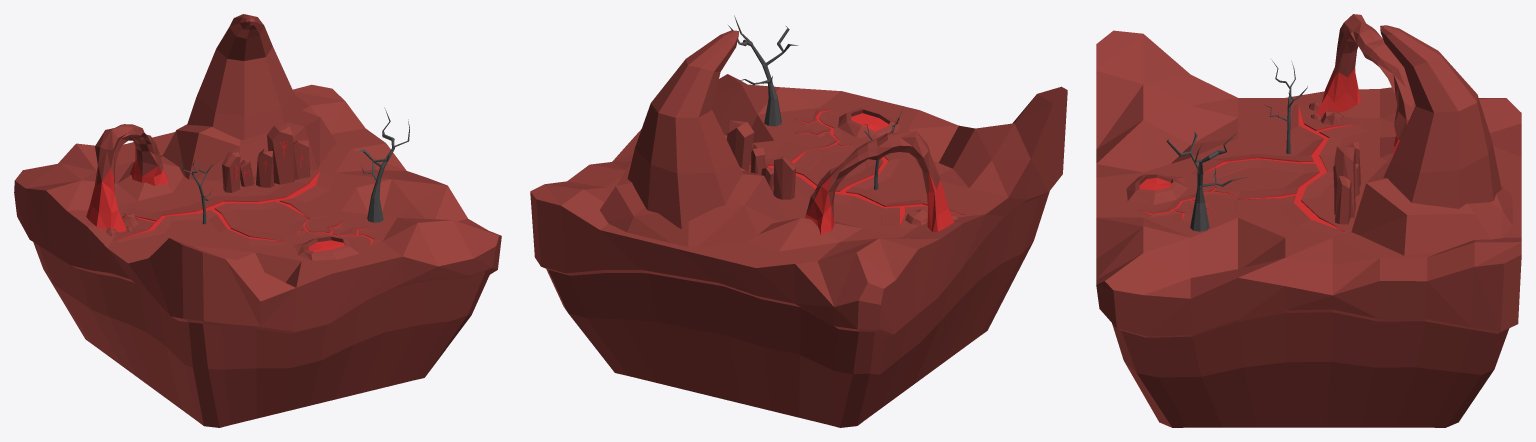
File: Island_6.glb
3 renders of one model, left to right at view 1: azimuth 30°, elevation 25°; view 2: azimuth 150°, elevation 25°; view 3: azimuth 270°, elevation 25°, orthographic. The views are drawn at different scales.
Visible parts, largest first — view 1: Isl6_Base, Isl6_Mountain_1, Isl6_Rock_1, Isl6_Stones_with_runes, Isl6_Puddle, Isl6_Tree_1; view 2: Isl6_Base, Isl6_Mountain_1, Isl6_Rock_1, Isl6_Stones_with_runes, Isl6_Puddle, Isl6_Tree_1; view 3: Isl6_Base, Isl6_Mountain_1, Isl6_Rock_1, Isl6_Stones_with_runes, Isl6_Puddle, Isl6_Tree_1, Isl6_Tree_2, Isl6_Stones_1.
Boxes of the visible parts, bbox=[...] form: Isl6_Base: bbox=[14, 84, 501, 427]; Isl6_Mountain_1: bbox=[162, 14, 336, 181]; Isl6_Rock_1: bbox=[86, 124, 168, 231]; Isl6_Stones_with_runes: bbox=[222, 126, 310, 192]; Isl6_Puddle: bbox=[293, 236, 359, 260]; Isl6_Tree_1: bbox=[357, 107, 409, 222]; Isl6_Base: bbox=[530, 74, 1067, 427]; Isl6_Mountain_1: bbox=[600, 30, 785, 247]; Isl6_Rock_1: bbox=[805, 131, 954, 235]; Isl6_Stones_with_runes: bbox=[724, 120, 795, 199]; Isl6_Puddle: bbox=[838, 108, 900, 139]; Isl6_Tree_1: bbox=[728, 15, 798, 126]; Isl6_Base: bbox=[1096, 30, 1521, 427]; Isl6_Mountain_1: bbox=[1351, 25, 1512, 255]; Isl6_Rock_1: bbox=[1315, 14, 1415, 153]; Isl6_Stones_with_runes: bbox=[1333, 142, 1360, 224]; Isl6_Puddle: bbox=[1126, 173, 1187, 204]; Isl6_Tree_1: bbox=[1166, 131, 1247, 231]; Isl6_Tree_2: bbox=[1265, 59, 1307, 153]; Isl6_Stones_1: bbox=[1309, 102, 1345, 125].
Bounding box in the file's own units: 20 × 18.37 × 20.
1 material, 1 textured.
